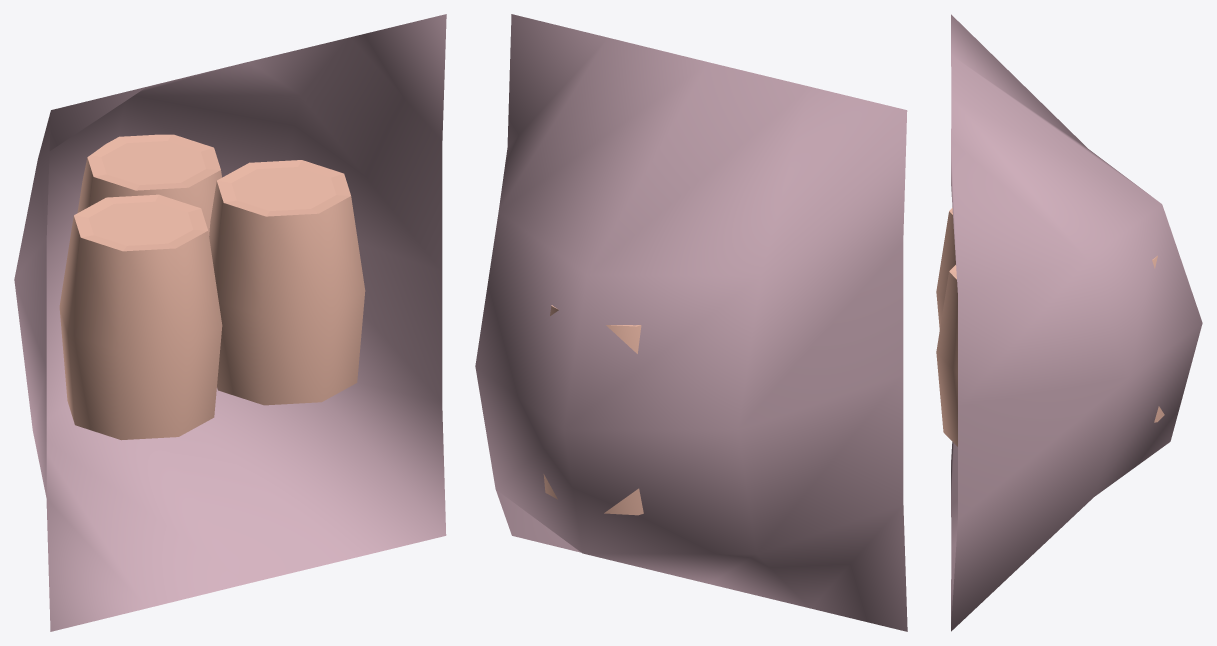
3 renders of one model, left to right at view 1: azimuth 30°, elevation 25°; view 2: azimuth 150°, elevation 25°; view 3: azimuth 270°, elevation 25°, orthographic. The views are drawn at different scales.
Parts seen in each view (by area): view 1: Object33; view 2: Object33; view 3: Object33.
Boxes of the visible parts, x1,y1,x2,y2 form: Object33: (14, 14, 446, 631); Object33: (475, 14, 907, 631); Object33: (936, 14, 1202, 631).
Size of the model in its own units: 14220 by 17907 by 9578.
